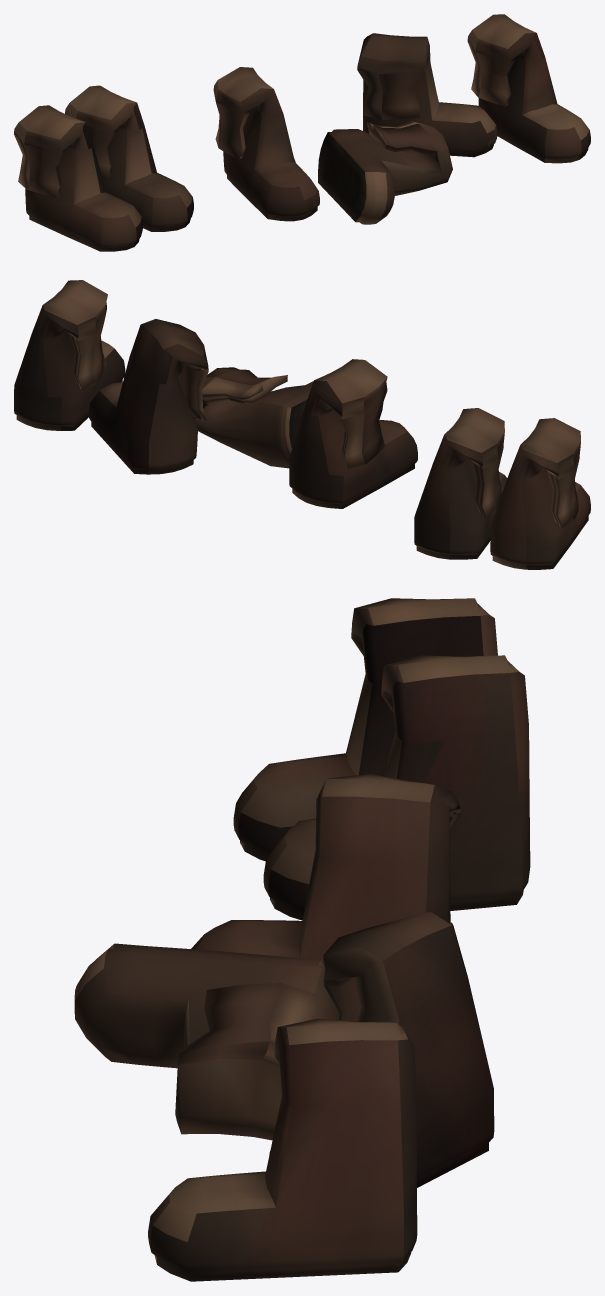
Rendered from boots_mod.fbx.
3 views of the same model, one above another, from view 1: azimuth 30°, elevation 25°; view 2: azimuth 150°, elevation 25°; view 3: azimuth 270°, elevation 25° (orthographic). The views are drawn at different scales.
Visible parts, largest first — view 1: сапог.003; view 2: сапог.003; view 3: сапог.003.
Boxes of the visible parts, x1=… form: сапог.003: x1=14, y1=14, x2=590, y2=251; сапог.003: x1=14, y1=280, x2=590, y2=569; сапог.003: x1=74, y1=598, x2=530, y2=1281.
Bounding box in the file's own units: 501 × 109 × 196.
1 material, 1 textured.
